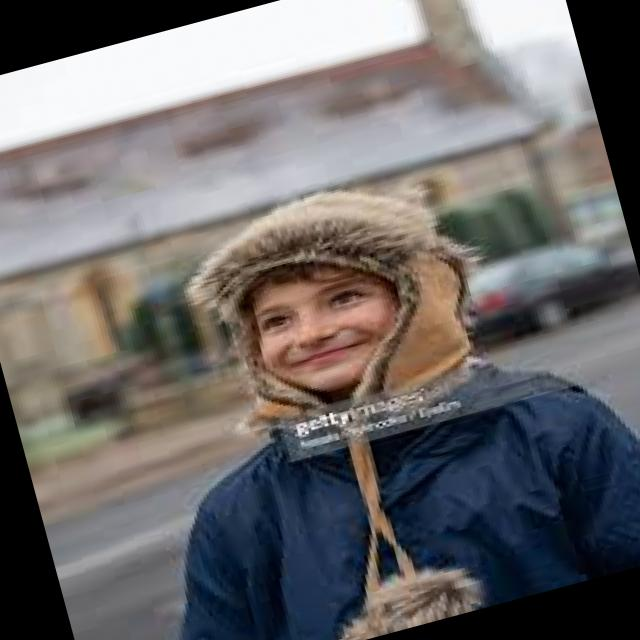Jacket: (107, 310, 640, 640)
